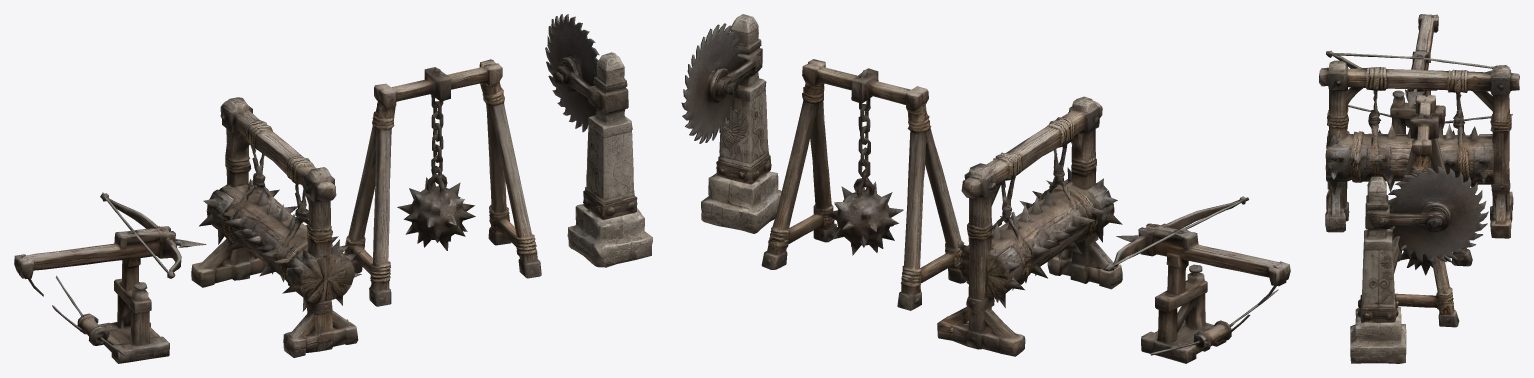
Rendered from traps_mech.glb.
The picture shows the model from 3 angles, left to right: view 1: azimuth 30°, elevation 25°; view 2: azimuth 150°, elevation 25°; view 3: azimuth 270°, elevation 25°; orthographic projection. The views are drawn at different scales.
Visible parts, largest first — view 1: spiked_log, spiked_ball, saw, crossbow; view 2: spiked_log, spiked_ball, saw, crossbow; view 3: spiked_log, saw, spiked_ball, crossbow.
Boxes of the visible parts, x1,y1,x2,y2 form: spiked_log: [191, 97, 361, 357]; spiked_ball: [344, 59, 541, 306]; saw: [545, 14, 652, 267]; crossbow: [14, 192, 206, 363]; spiked_log: [937, 96, 1122, 356]; spiked_ball: [761, 59, 965, 310]; saw: [681, 14, 781, 233]; crossbow: [1103, 196, 1290, 363]; spiked_log: [1319, 60, 1519, 238]; saw: [1350, 166, 1488, 363]; spiked_ball: [1390, 95, 1472, 327]; crossbow: [1326, 14, 1512, 134].
Bounding box in the file's own units: 1.03 × 0.3546 × 0.3438.
Materials: 1 (1 with a texture image).
